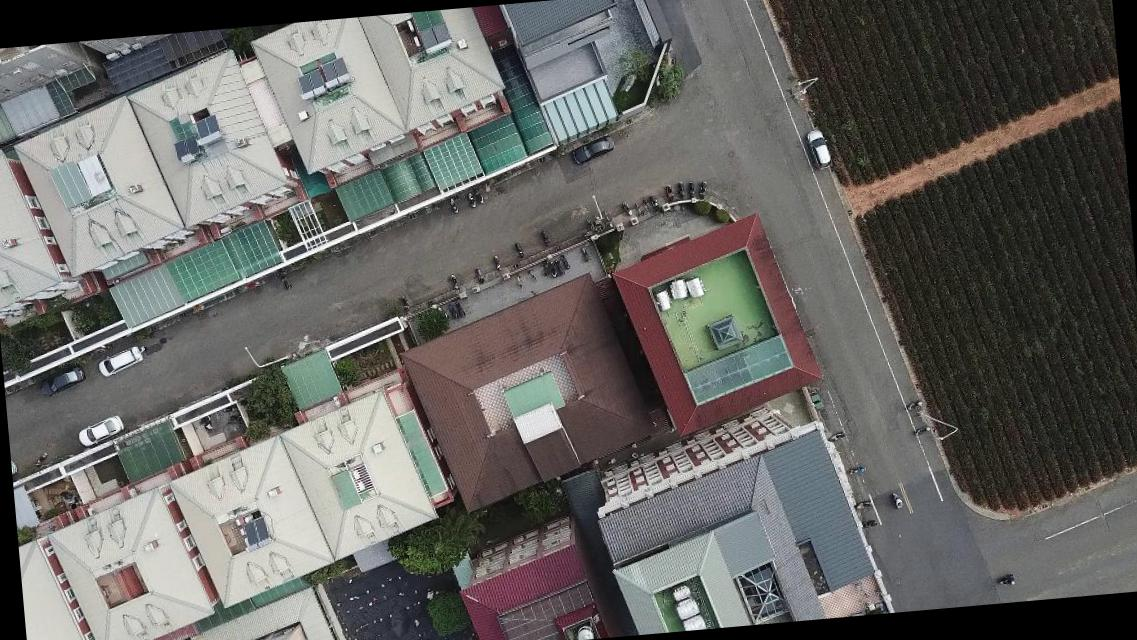vehicle: (36, 366, 86, 398), (94, 346, 142, 379), (567, 134, 615, 166), (76, 414, 123, 446), (804, 126, 833, 168)
